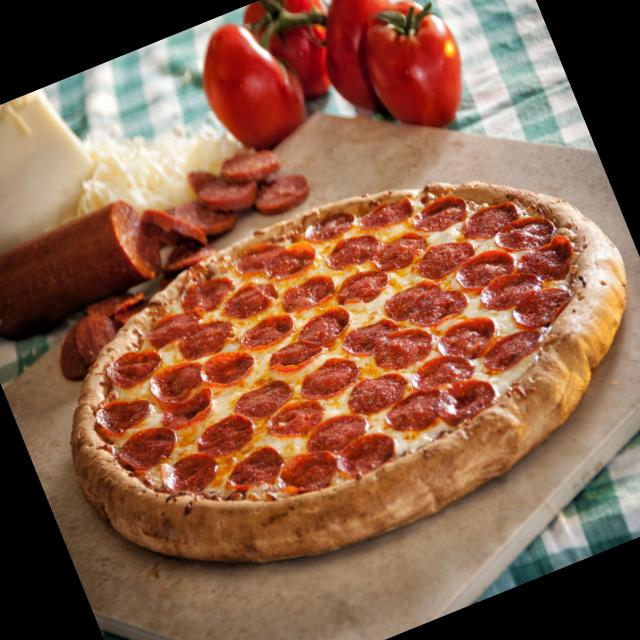pepperoni: (326, 419, 404, 493), (218, 436, 290, 504), (288, 292, 361, 358), (276, 438, 344, 506), (512, 230, 586, 292), (300, 400, 373, 462), (429, 306, 502, 368), (292, 346, 364, 408), (260, 387, 330, 450), (366, 314, 436, 376), (479, 320, 552, 379), (111, 412, 181, 473), (144, 351, 211, 414), (508, 274, 578, 334), (191, 403, 261, 462), (406, 342, 476, 401), (87, 384, 155, 444), (99, 336, 168, 394), (402, 274, 470, 332), (407, 186, 477, 242), (456, 192, 523, 248), (452, 239, 520, 294), (156, 440, 220, 498), (474, 260, 540, 316), (175, 265, 242, 320), (273, 266, 338, 321), (230, 372, 296, 426), (490, 208, 558, 260), (140, 300, 210, 350), (413, 232, 480, 284), (156, 382, 220, 436), (196, 337, 258, 392), (218, 275, 284, 326), (356, 190, 421, 241), (330, 259, 392, 312), (174, 308, 236, 360), (370, 224, 432, 276), (266, 327, 327, 379), (321, 227, 385, 276), (382, 272, 444, 322), (341, 308, 403, 358), (262, 234, 322, 283), (233, 308, 296, 354), (299, 200, 359, 248), (232, 232, 290, 280)
pizza: (70, 181, 627, 567)
